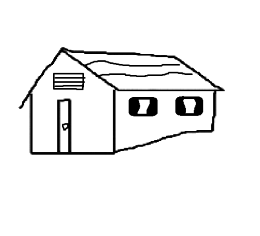closed_window: (50, 71, 86, 93)
door: (51, 97, 76, 157)
open_window: (173, 96, 203, 115), (128, 97, 157, 116)
roof: (19, 46, 225, 109)
wall: (27, 45, 119, 157)
